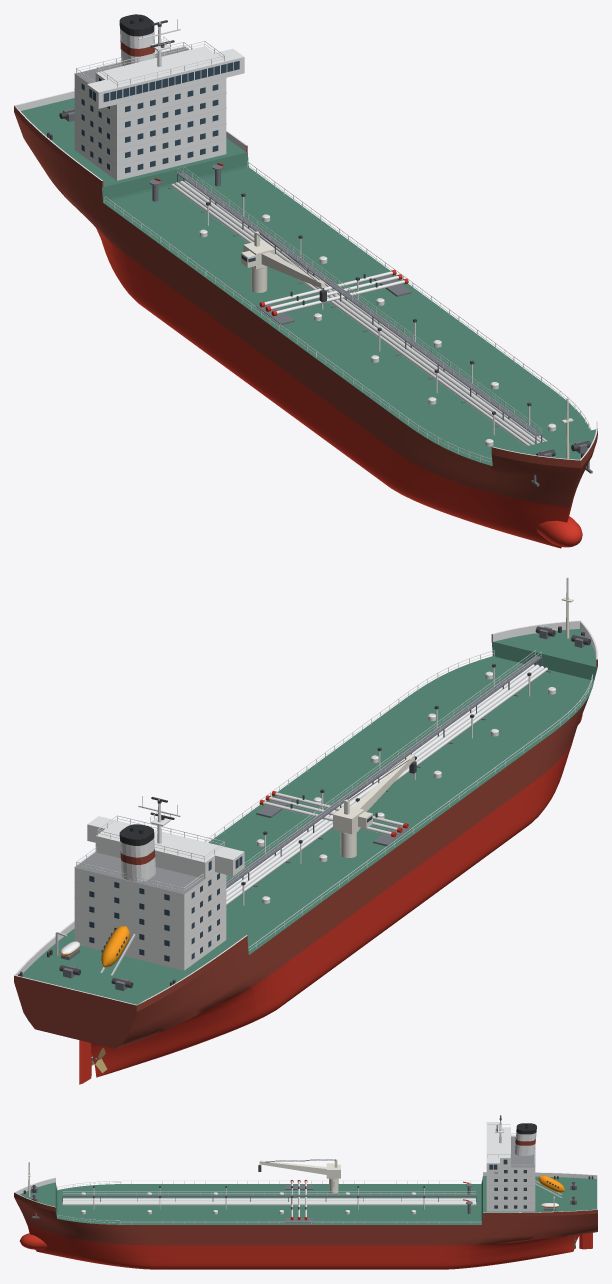
File: 305_close.fbx
The picture shows the model from 3 angles, top to bottom: view 1: azimuth 30°, elevation 25°; view 2: azimuth 150°, elevation 25°; view 3: azimuth 270°, elevation 25°; orthographic projection. The views are drawn at different scales.
Visible parts, largest first — view 1: 305_close; view 2: 305_close; view 3: 305_close.
Boxes of the visible parts, <box> form: 305_close: <box>14,14,597,548</box>; 305_close: <box>14,577,597,1084</box>; 305_close: <box>14,1115,597,1269</box>.
Size of the model in its own units: 28.06 by 42.6 by 168.
